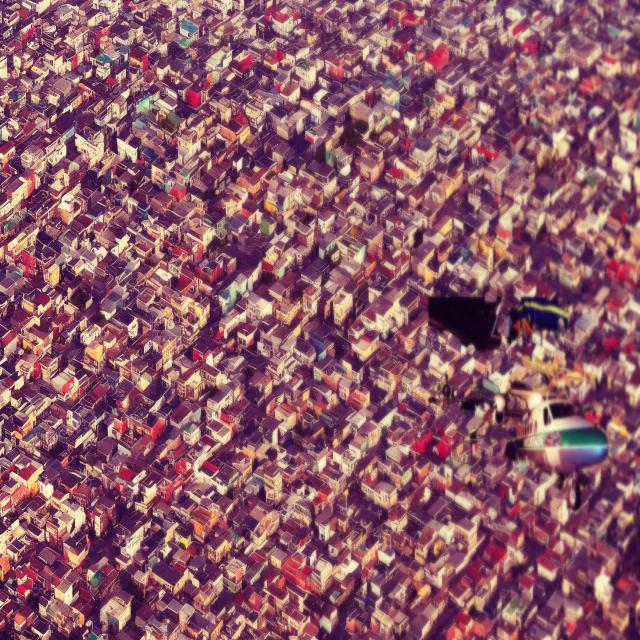airplane: (428, 294, 610, 509)
